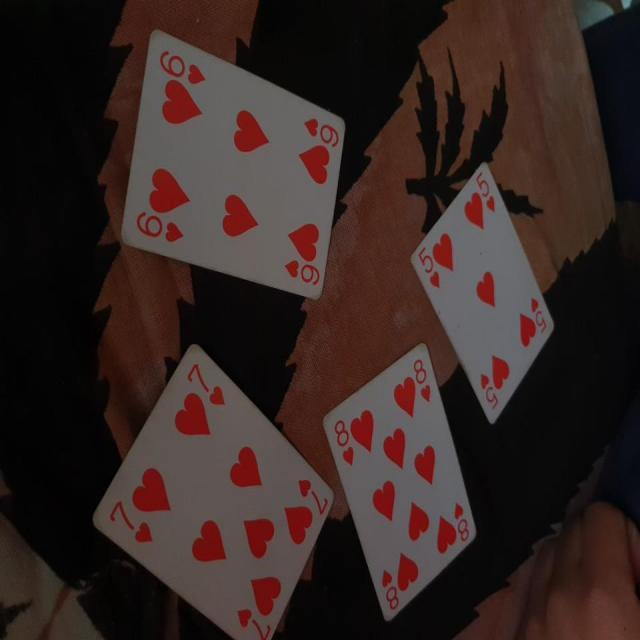5 of hearts: (412, 152, 556, 430)
6 of hearts: (117, 22, 356, 300)
7 of hearts: (88, 340, 338, 633)
8 of hearts: (331, 334, 482, 628)
